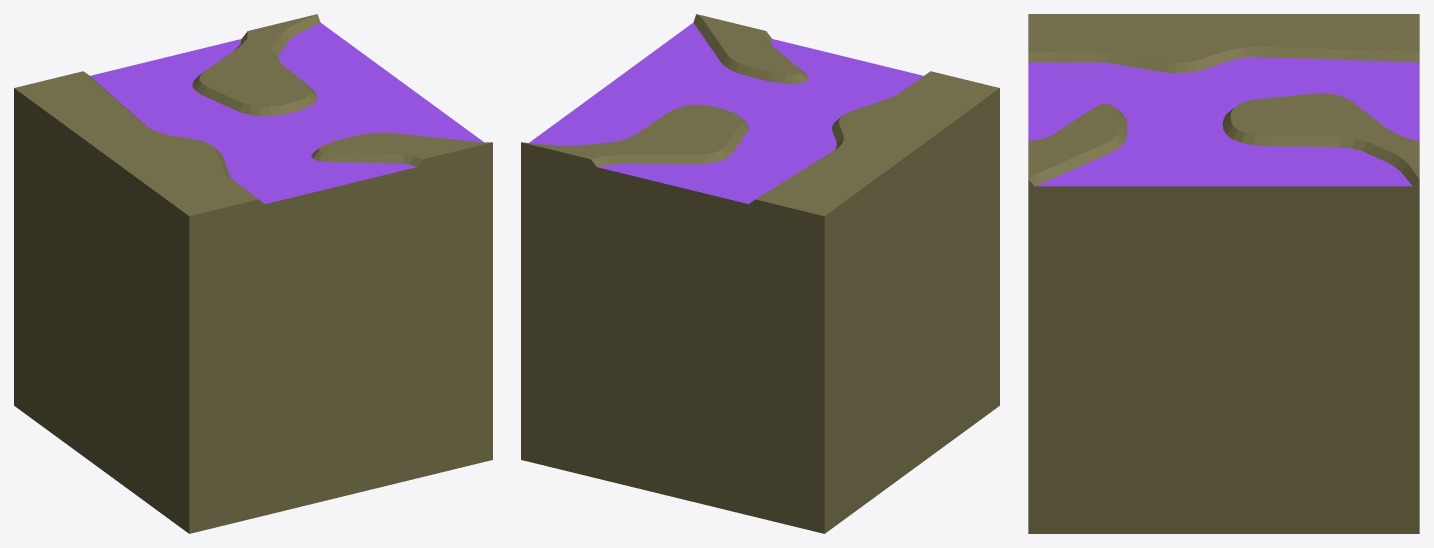
Rendered from tile_toxic_5b_01.fbx.
The picture shows the model from 3 angles, left to right: view 1: azimuth 30°, elevation 25°; view 2: azimuth 150°, elevation 25°; view 3: azimuth 270°, elevation 25°; orthographic projection. The views are drawn at different scales.
Visible parts, largest first — view 1: tile_toxic_5b_01; view 2: tile_toxic_5b_01; view 3: tile_toxic_5b_01.
Boxes of the visible parts, left/top/right/bottom form: tile_toxic_5b_01: left=14, top=14, right=492, bottom=533; tile_toxic_5b_01: left=521, top=14, right=999, bottom=533; tile_toxic_5b_01: left=1028, top=14, right=1419, bottom=533.
Size of the model in its own units: 100 by 100 by 100.
